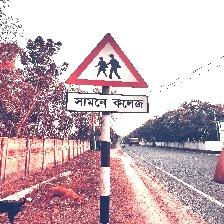College-in-front: (58, 28, 162, 129)
